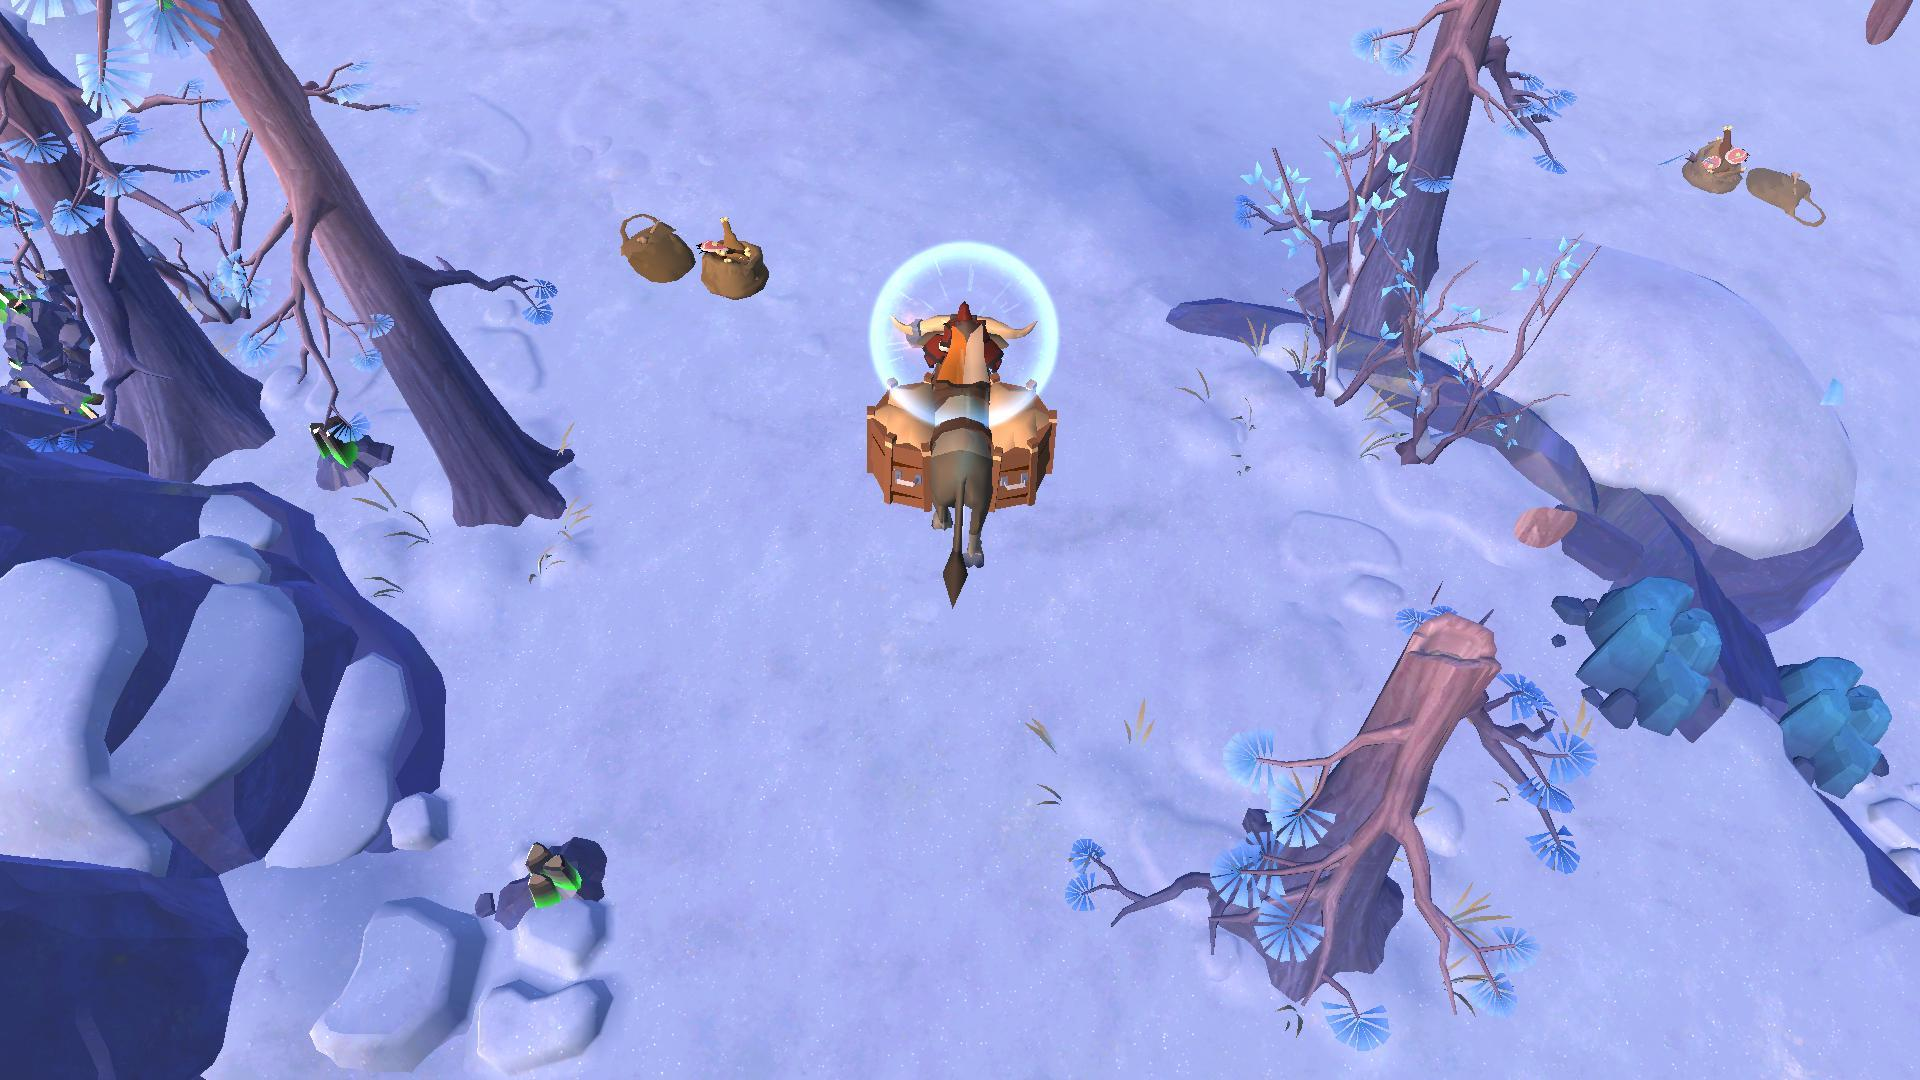ore_t3: (517, 836, 585, 911), (306, 415, 359, 477)
rock_t4: (1572, 562, 1734, 742), (1759, 636, 1892, 804)
